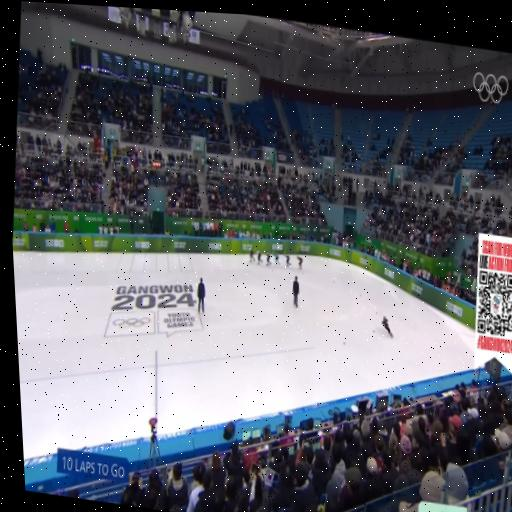Skater: (378, 315, 398, 341), (246, 245, 257, 264), (282, 251, 293, 269), (271, 250, 282, 267), (262, 249, 272, 266), (254, 248, 264, 265), (296, 255, 305, 270)
